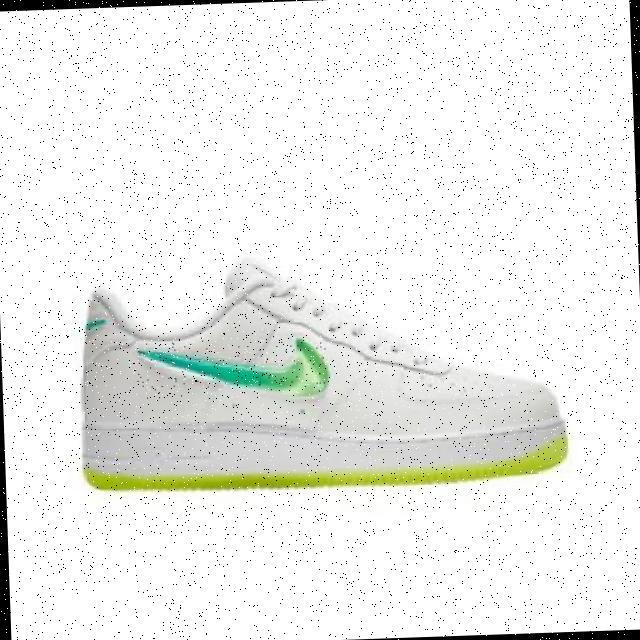Nike: (132, 333, 327, 399)
